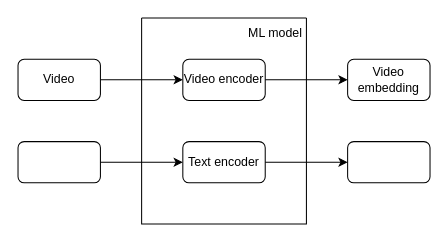
The diagram is 448 pixels wide and 242 high, and some of its shapes have lost their labels. Here are the shapes that lost their labels. From the top down, the centre of each, then its label:
the point at 58,162: Text query
the point at 388,162: Text embedding
